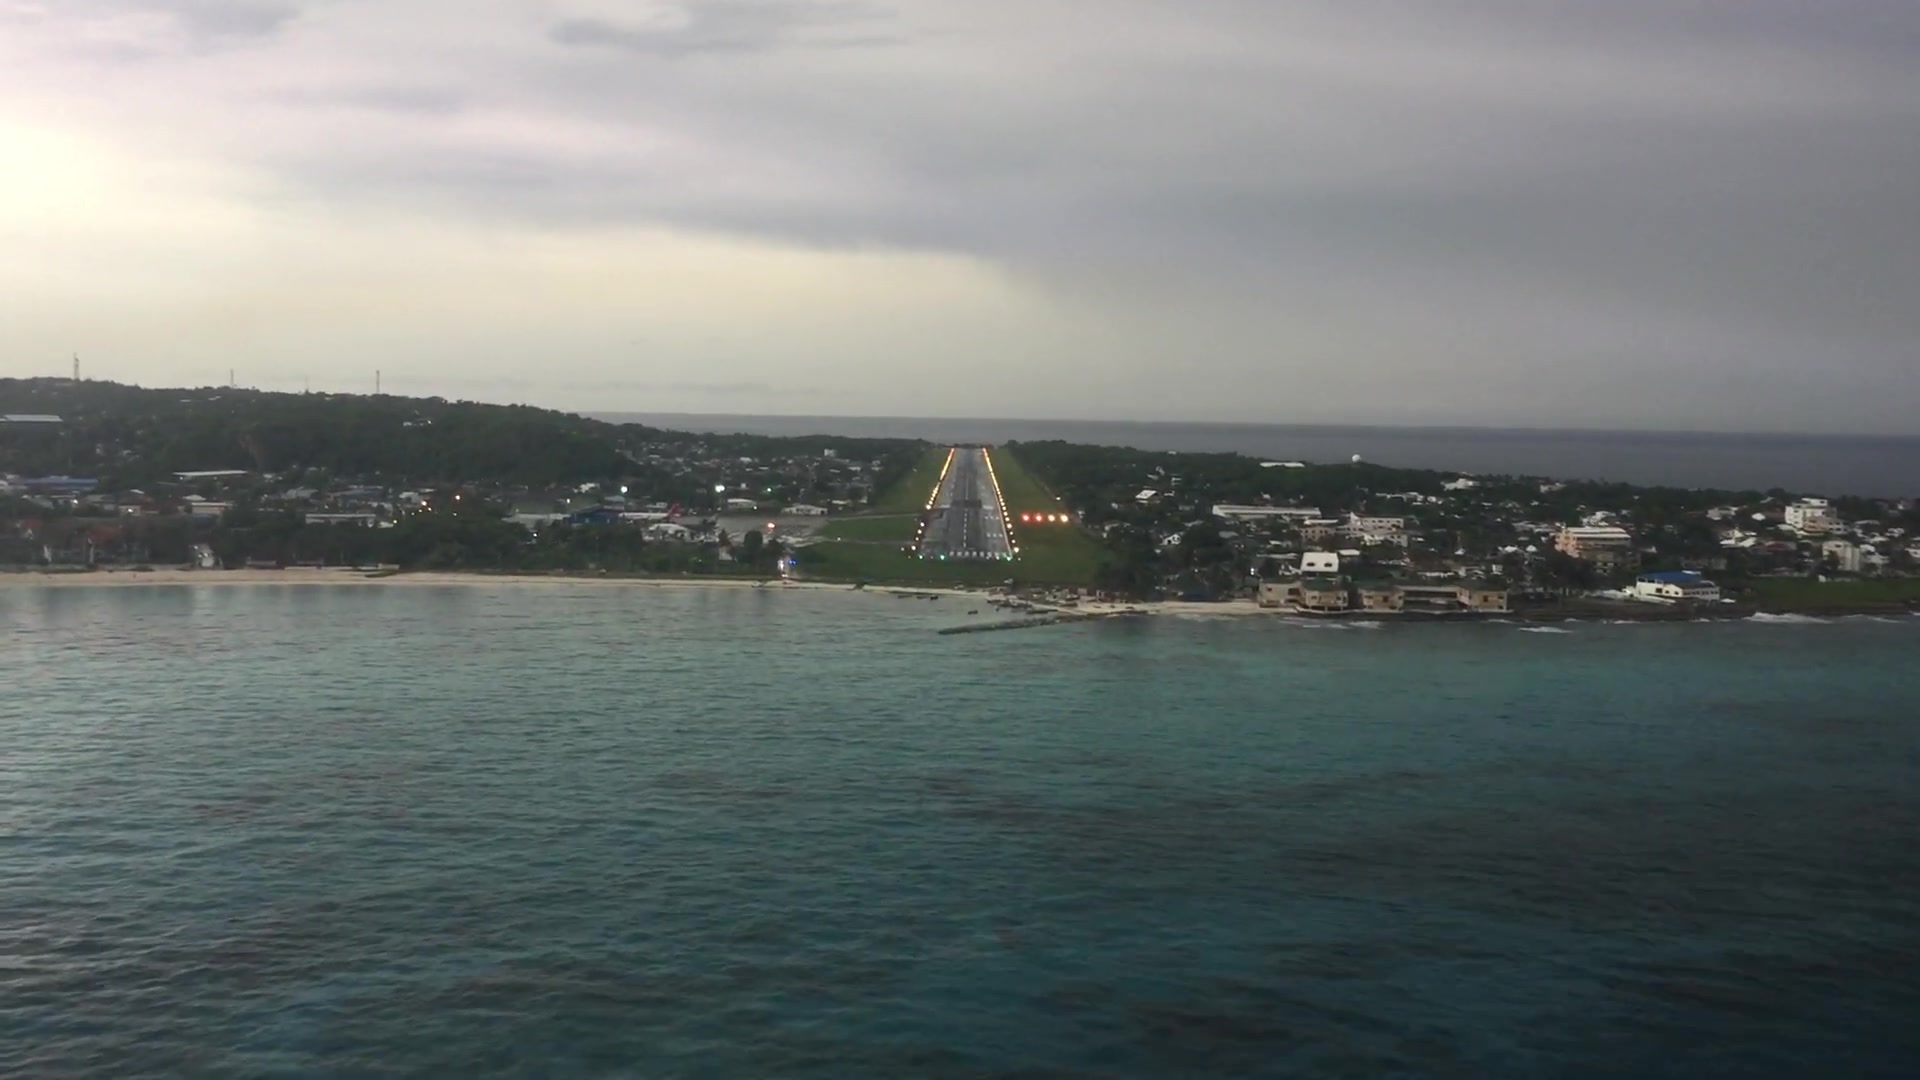entrance: (945, 549, 1009, 558)
runway: (909, 443, 1019, 562)
